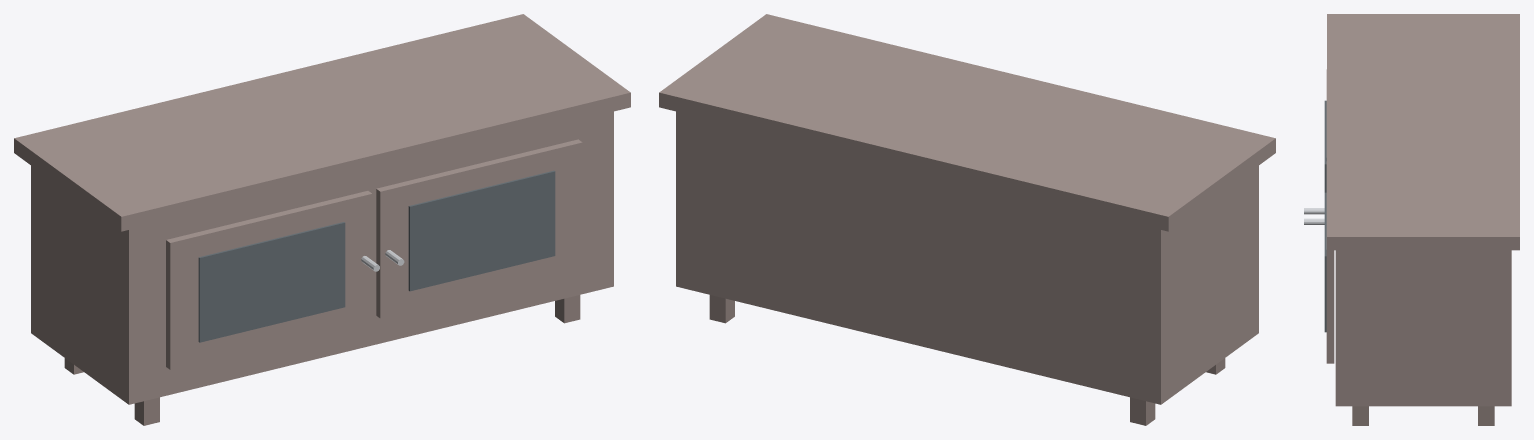
File: container_cabinet.glb
The picture shows the model from 3 angles, left to right: view 1: azimuth 30°, elevation 25°; view 2: azimuth 150°, elevation 25°; view 3: azimuth 270°, elevation 25°; orthographic projection. The views are drawn at different scales.
Parts seen in each view (by area): view 1: Ccb_Top, Ccb_Body, Ccb_Door-1, Ccb_Door1, Ccb_Glass1, Ccb_Glass-1, Ccb_Leg1-1, Ccb_Leg-1-1; view 2: Ccb_Body, Ccb_Top, Ccb_Leg11, Ccb_Leg-11; view 3: Ccb_Top, Ccb_Body, Ccb_Door1, Ccb_Glass1, Ccb_Leg1-1, Ccb_Leg11, Ccb_Glass-1.
Part boxes in pixels (<box>): Ccb_Top: <box>14,14,630,231</box>; Ccb_Body: <box>31,111,613,404</box>; Ccb_Door-1: <box>166,191,372,369</box>; Ccb_Door1: <box>376,139,582,318</box>; Ccb_Glass1: <box>408,170,555,291</box>; Ccb_Glass-1: <box>198,222,345,342</box>; Ccb_Leg1-1: <box>555,295,580,323</box>; Ccb_Leg-1-1: <box>134,397,159,425</box>; Ccb_Body: <box>676,111,1258,404</box>; Ccb_Top: <box>659,14,1275,231</box>; Ccb_Leg11: <box>709,295,734,323</box>; Ccb_Leg-11: <box>1130,397,1155,425</box>; Ccb_Top: <box>1327,14,1519,250</box>; Ccb_Body: <box>1335,250,1511,406</box>; Ccb_Door1: <box>1326,161,1334,363</box>; Ccb_Glass1: <box>1324,192,1326,332</box>; Ccb_Leg1-1: <box>1352,406,1368,425</box>; Ccb_Leg11: <box>1478,406,1494,425</box>; Ccb_Glass-1: <box>1324,100,1326,192</box>.
Size of the model in its own units: 1.26 by 0.5395 by 0.515.
